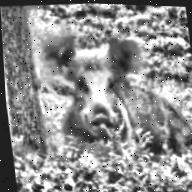boar: (36, 15, 192, 163)
